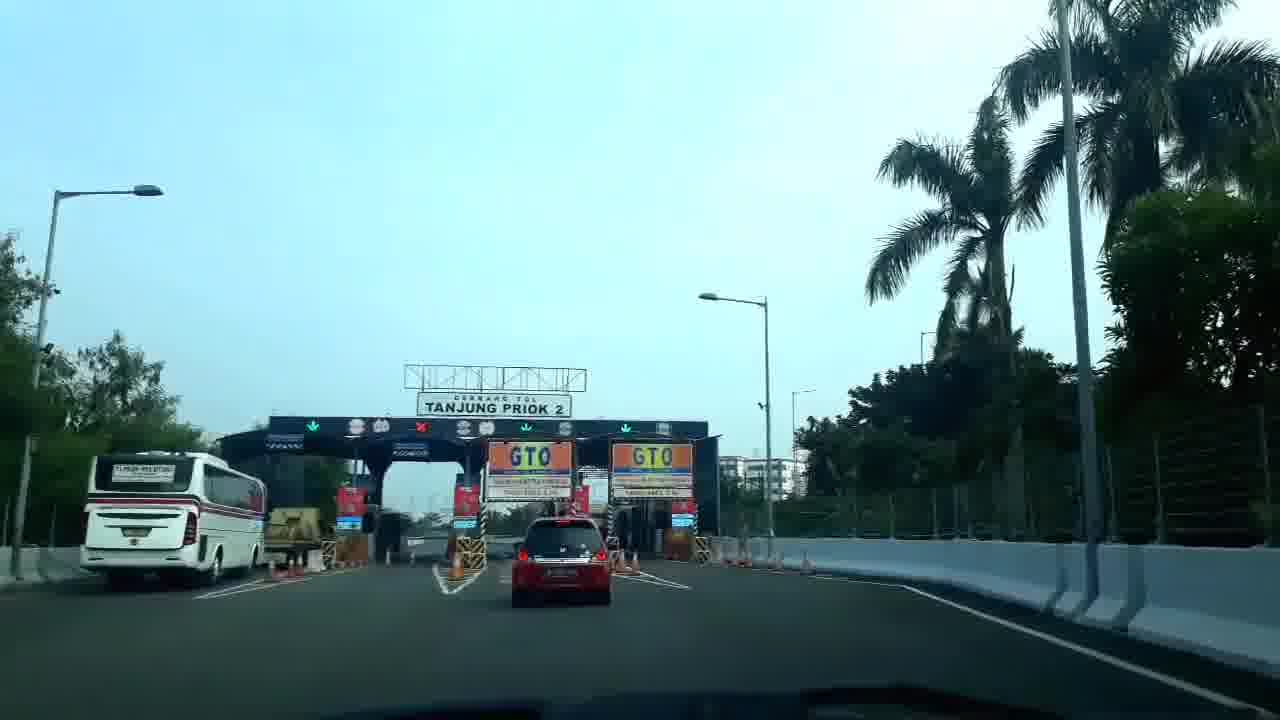plate_positive: (545, 566, 579, 578)
